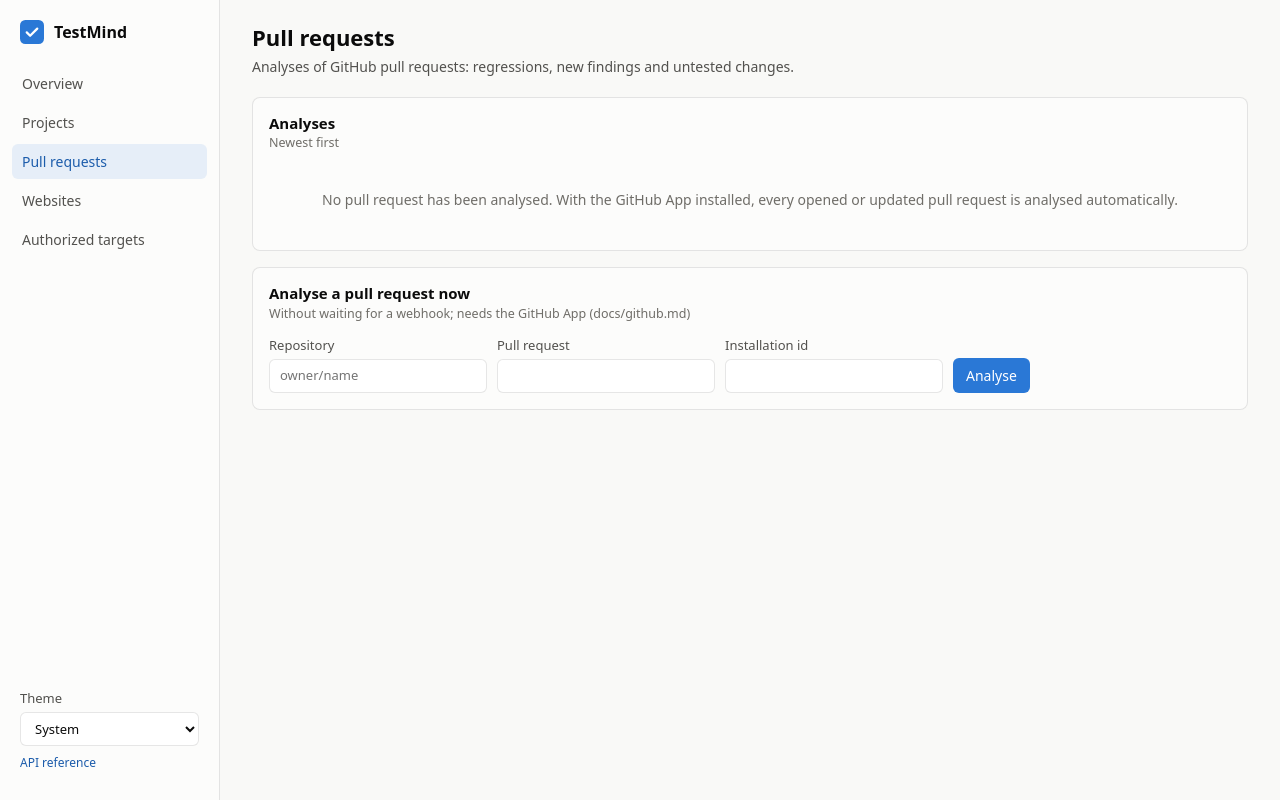
Pull request analyses › opens a manually requested analysis
Check: the text "No pull request has been analysed" is shown, box [322, 190, 1178, 209]
Step 1. Type "acme/shop" into the field labelled "Repository" → (378, 376), box [269, 359, 487, 392]
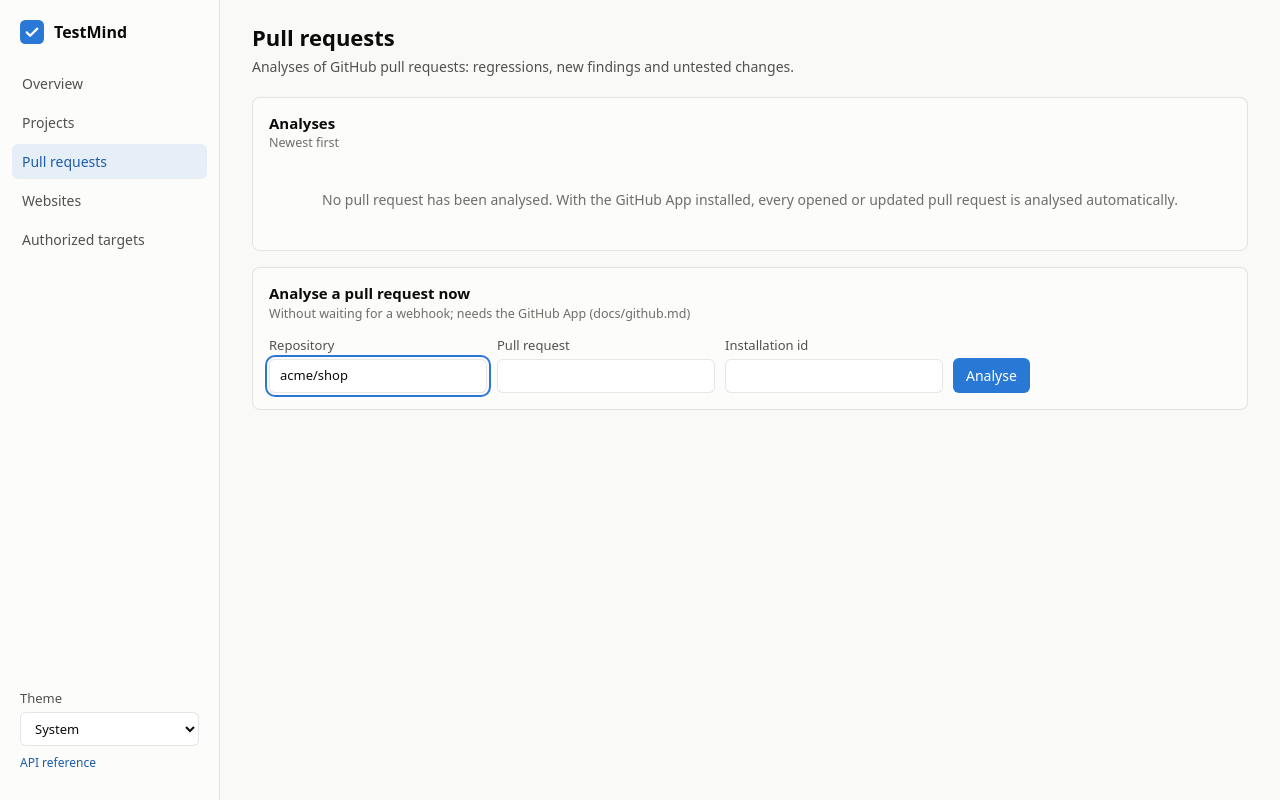
Step 2. Type "7" into the number field labelled "Pull request" → (606, 376), box [497, 359, 715, 392]
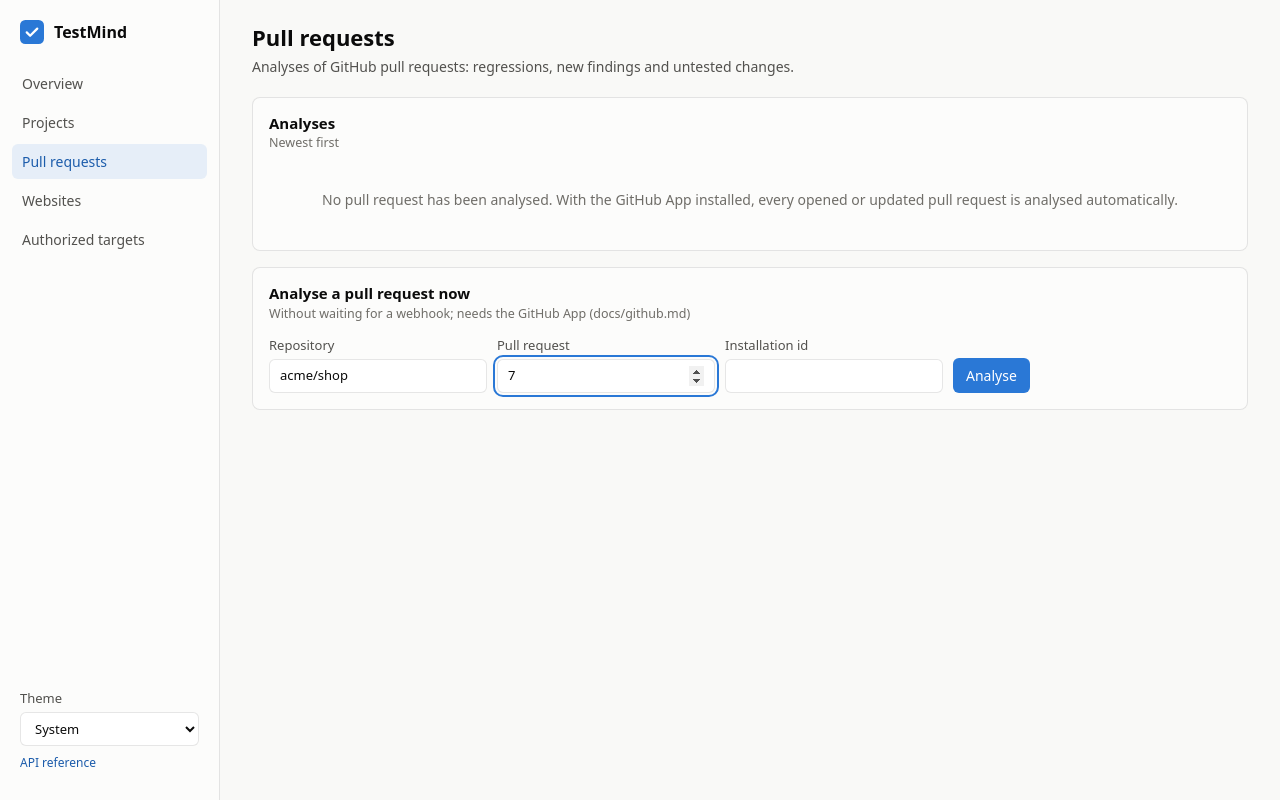
Step 3. Type "3" into the number field labelled "Installation id" → (834, 376), box [725, 359, 943, 392]
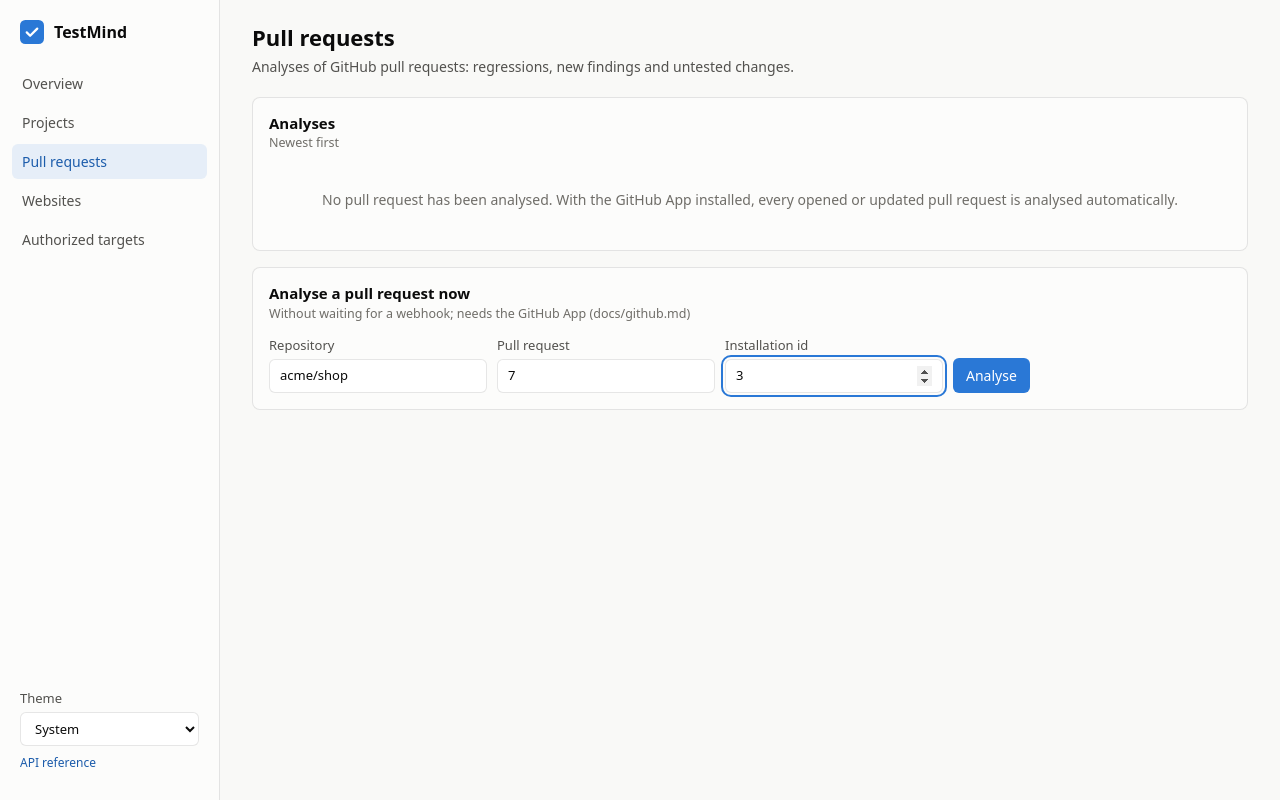
Step 4. Click the button "Analyse" → (991, 375), box [953, 358, 1030, 392]
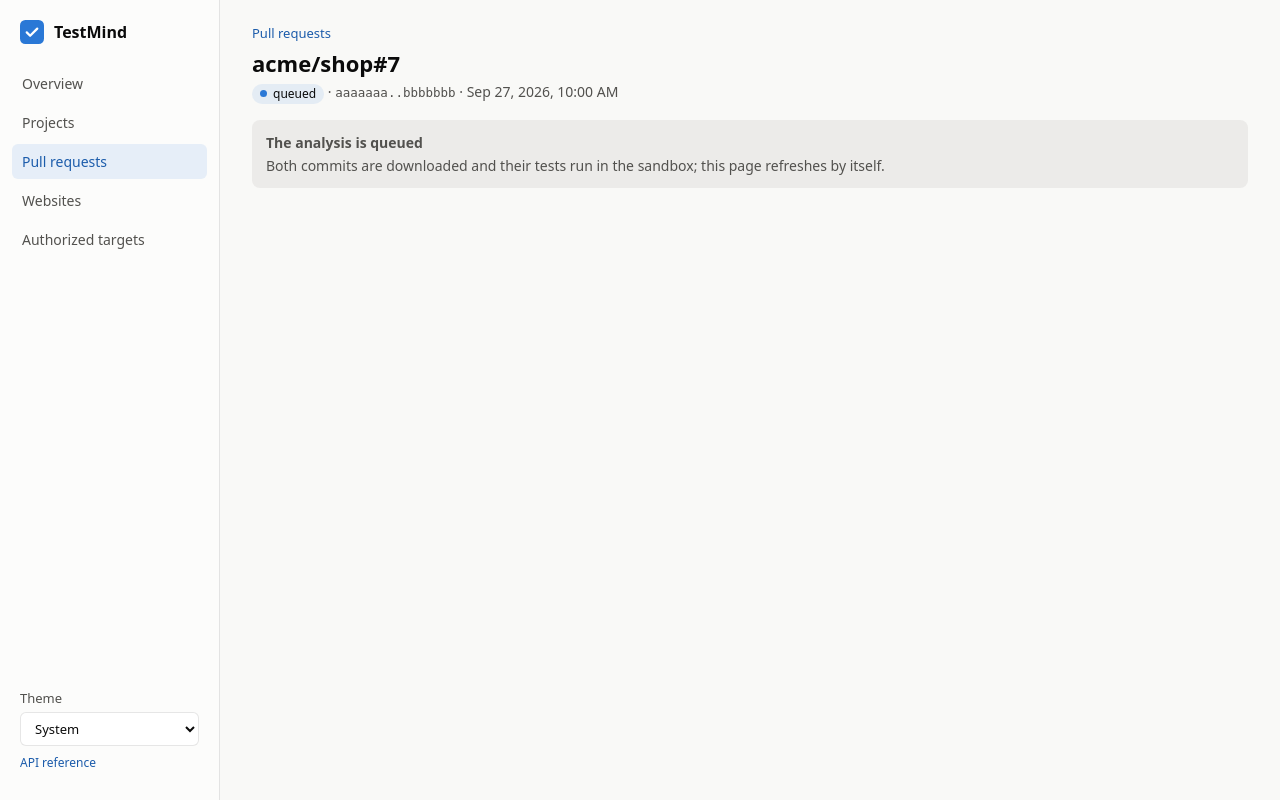
Check: the text "The analysis is queued" is shown, box [266, 132, 423, 152]
